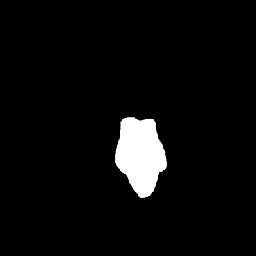mass: (138, 145, 186, 208)
